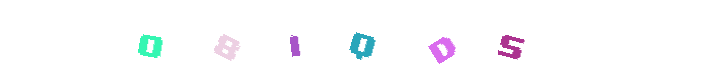0: (125, 0, 205, 80)
1: (315, 0, 395, 80)
8: (206, 0, 286, 80)
D: (397, 0, 477, 80)
Q: (321, 0, 401, 80)
S: (406, 0, 486, 80)
